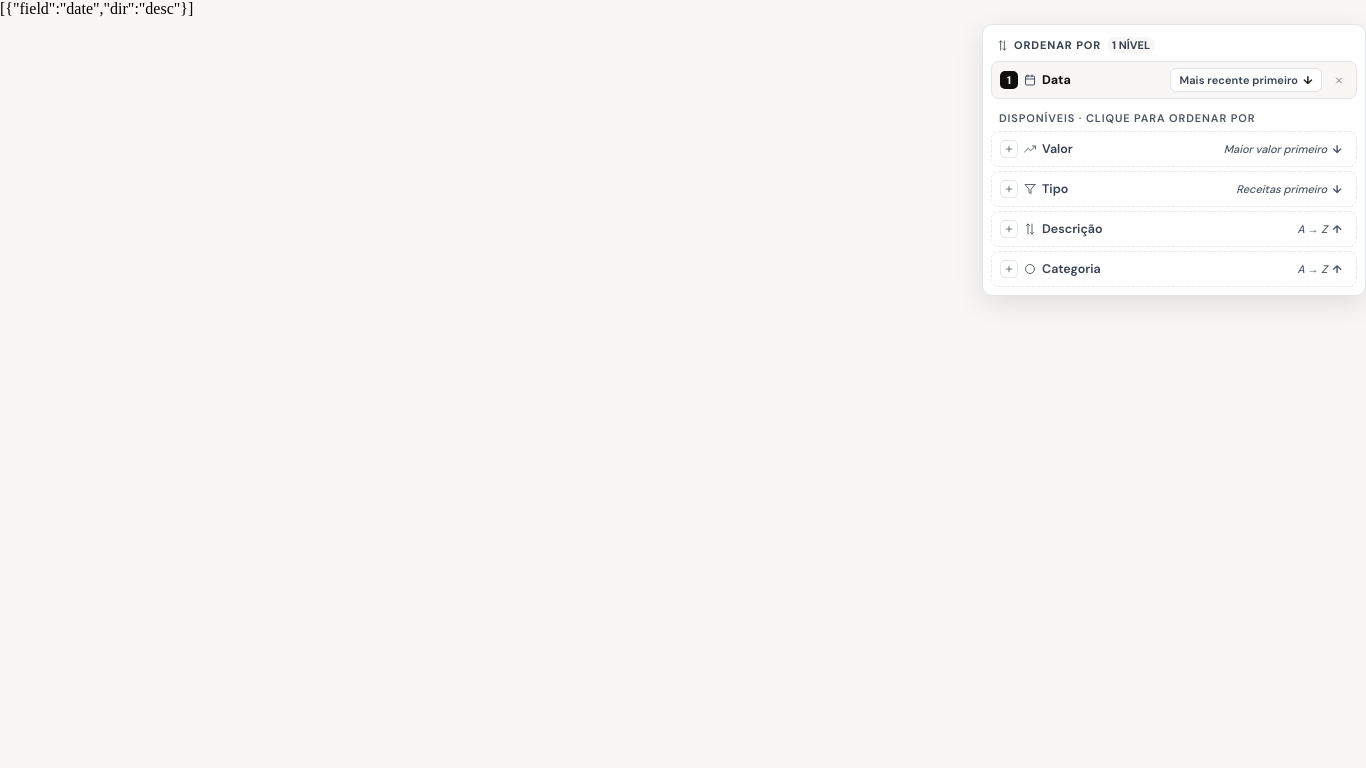
Test case: <SortMenu> › Resetar aparece após mudança e volta ao default
Click the button with aria-label "Inverter direção de Data" at (1246, 80), box [1170,68,1322,92]
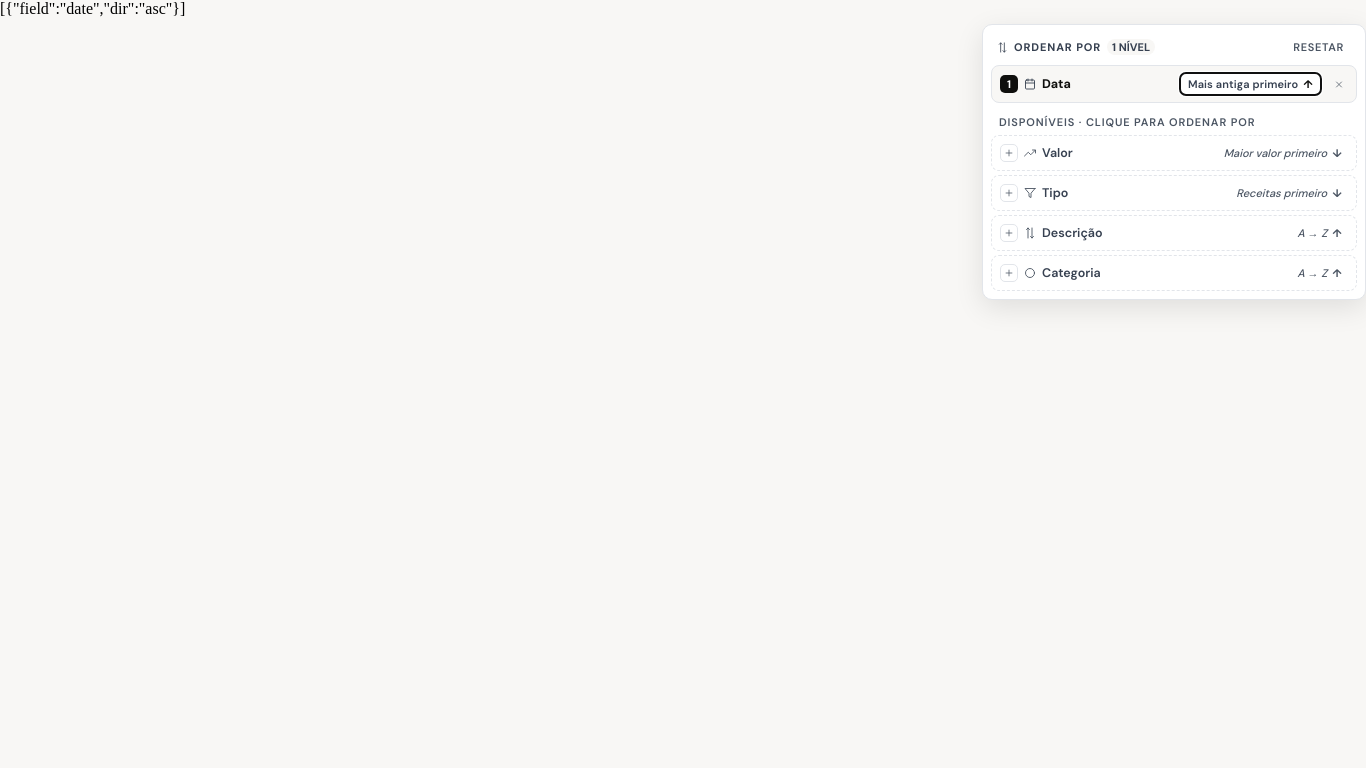
Click the button "Resetar" at (1319, 47), box [1286,37,1351,57]
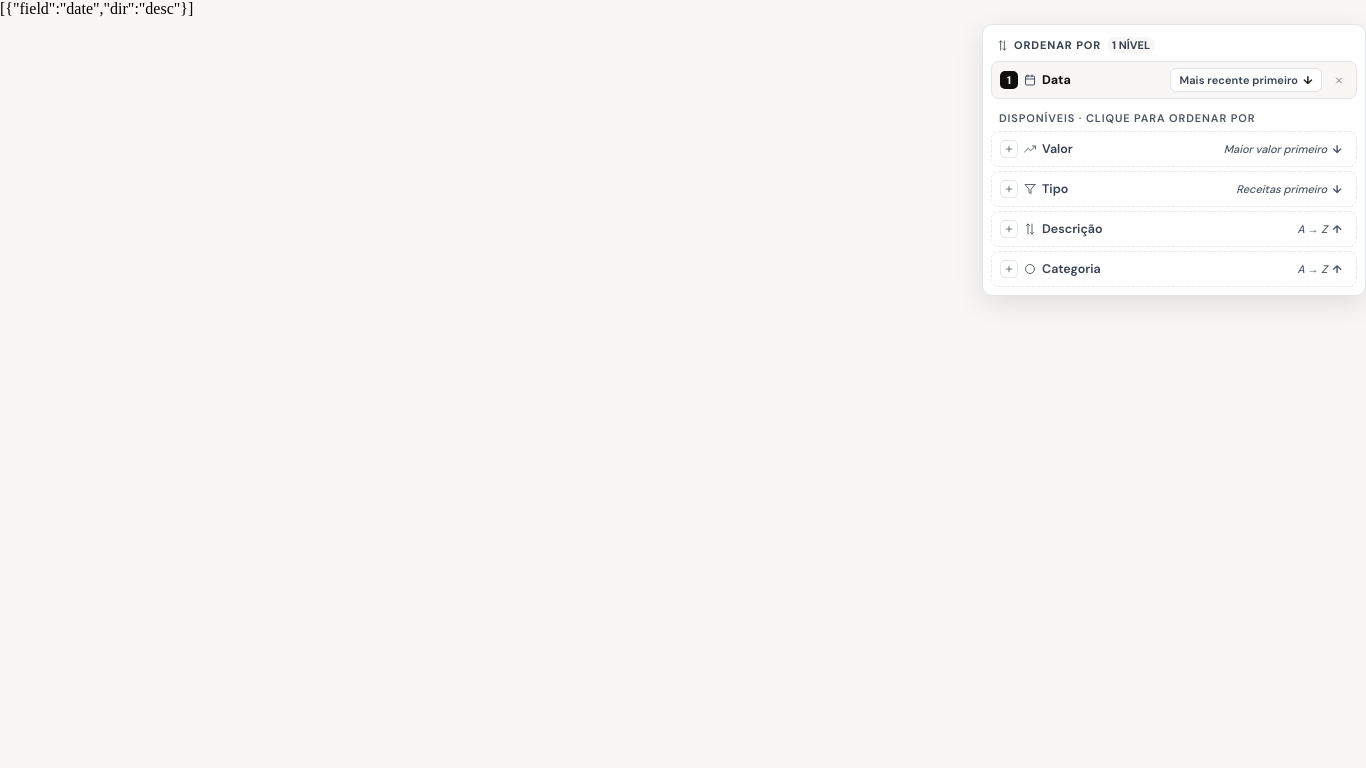
Expected: the button "Resetar" is gone
